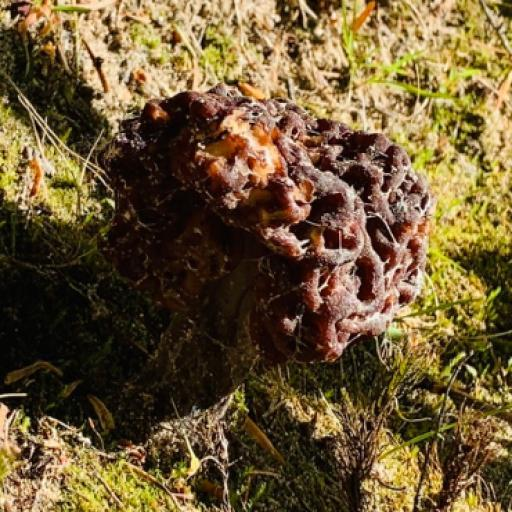mushroom: (81, 63, 445, 378)
